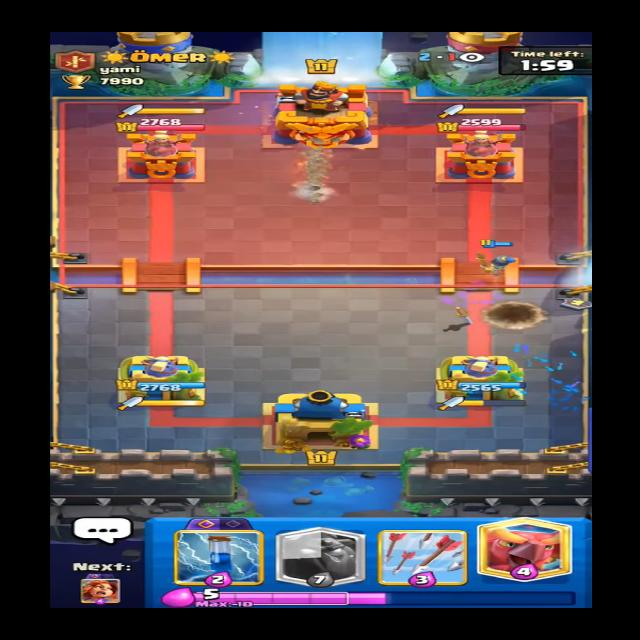trail: (285, 133, 348, 210)
